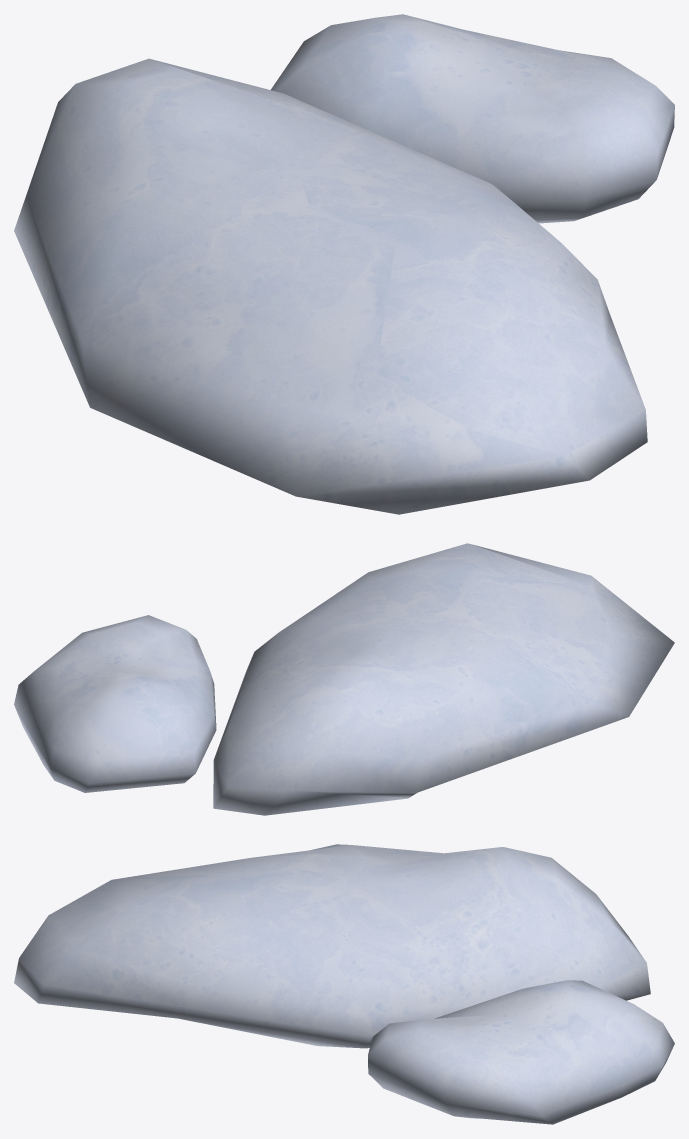
File: Nieve_2_OK.fbx
The picture shows the model from 3 angles, top to bottom: view 1: azimuth 30°, elevation 25°; view 2: azimuth 150°, elevation 25°; view 3: azimuth 270°, elevation 25°; orthographic projection. The views are drawn at different scales.
Parts seen in each view (by area): view 1: Sphere.020; view 2: Sphere.020; view 3: Sphere.020.
Part boxes in pixels (x1=…): Sphere.020: x1=14, y1=14, x2=674, y2=514; Sphere.020: x1=14, y1=543, x2=674, y2=815; Sphere.020: x1=14, y1=844, x2=674, y2=1124.
Bounding box in the file's own units: 284 × 72.42 × 332.
1 material, 1 textured.
